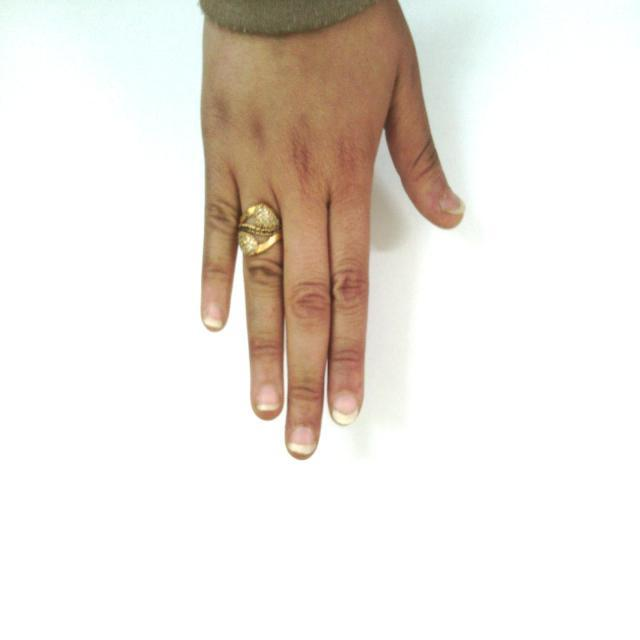Fingernail: (333, 391, 359, 424), (288, 427, 317, 455), (256, 384, 281, 410), (441, 189, 466, 213), (205, 304, 225, 328)
